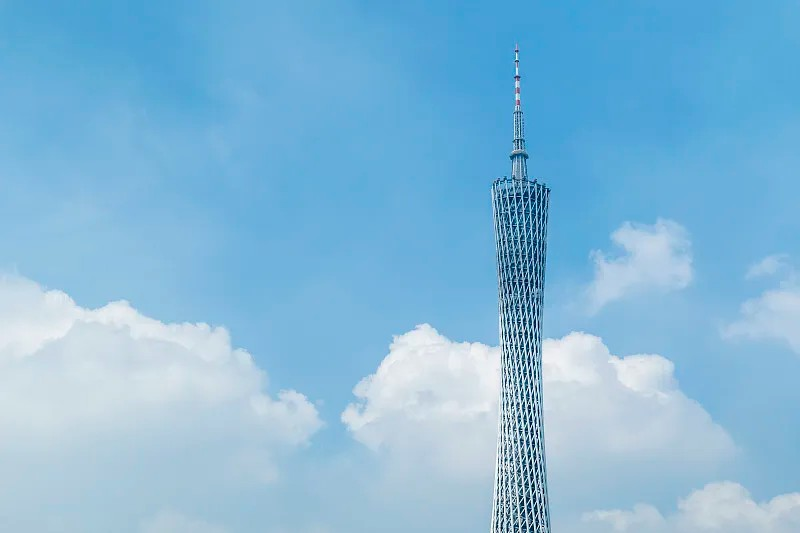Canton: (490, 45, 550, 533)
